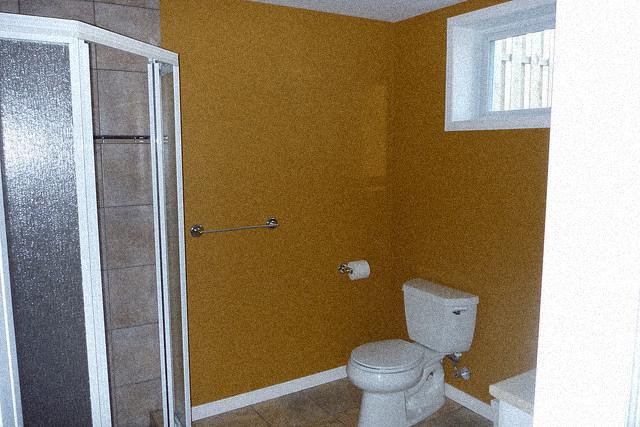Ducha: (0, 13, 179, 426)
Sanitario: (347, 280, 483, 426)
